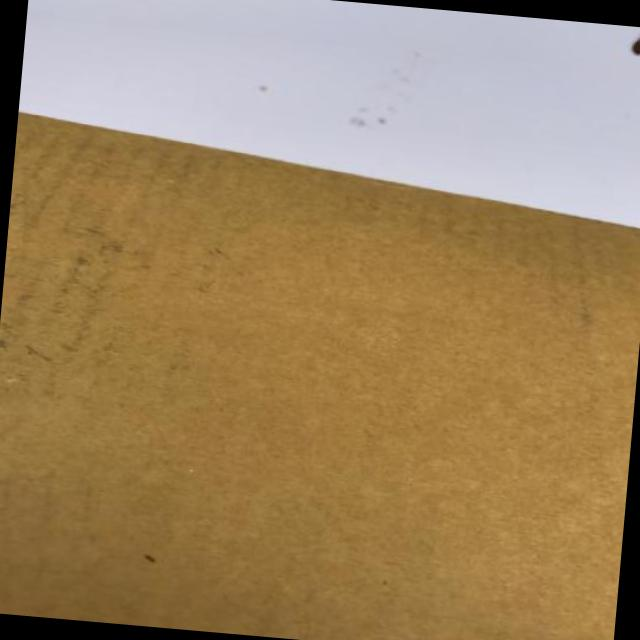cardboard: (0, 116, 639, 639)
paper: (19, 0, 639, 226)
